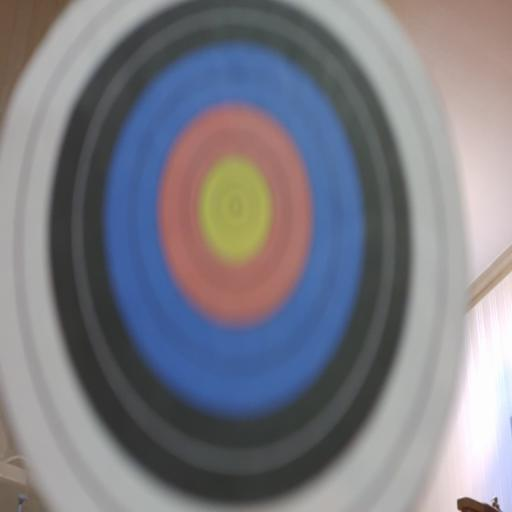target: (0, 0, 466, 511)
